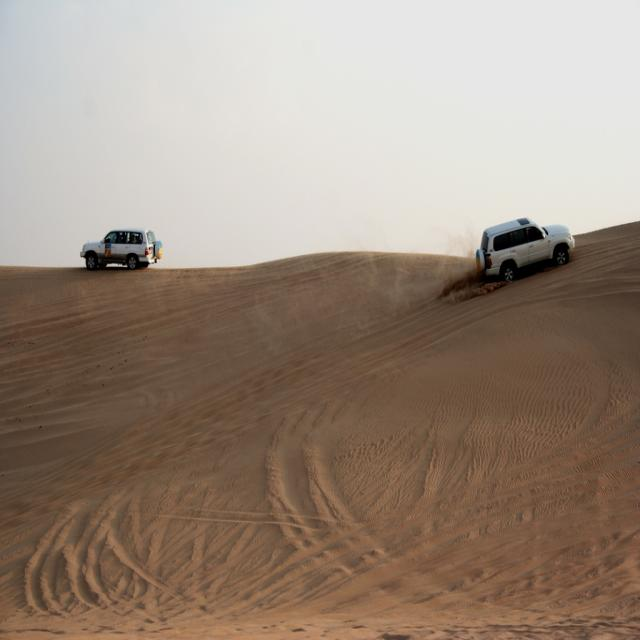car: (79, 226, 161, 270)
